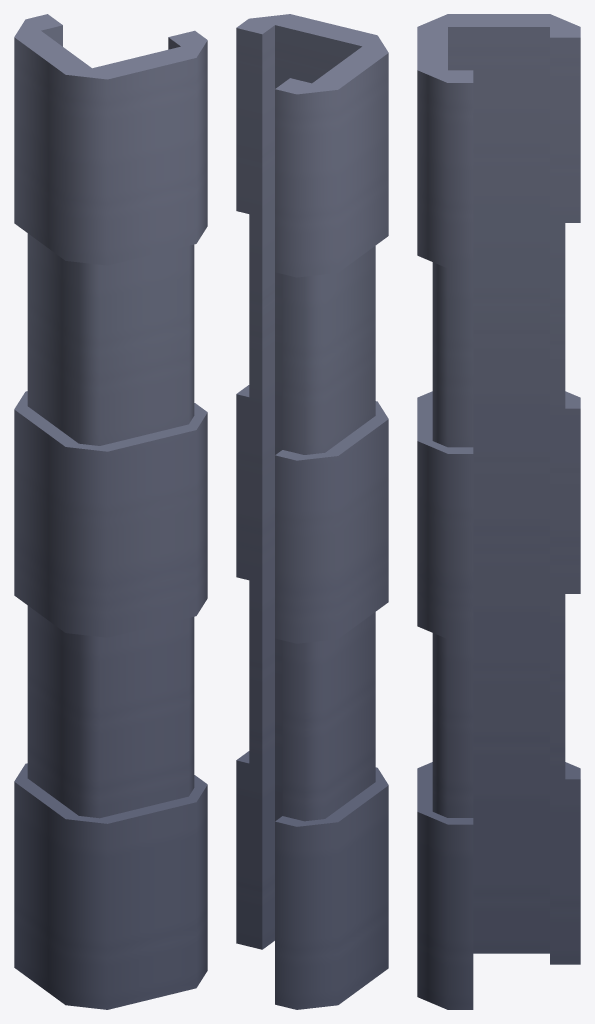
File: wall-corner-detail.fbx
3 renders of one model, left to right at view 1: azimuth 30°, elevation 25°; view 2: azimuth 150°, elevation 25°; view 3: azimuth 270°, elevation 25°, orthographic.
Parts seen in each view (by area): view 1: wall-corner-detail; view 2: wall-corner-detail; view 3: wall-corner-detail.
Part boxes in pixels (<box>): wall-corner-detail: <box>14,14,207,1009</box>; wall-corner-detail: <box>236,14,388,1009</box>; wall-corner-detail: <box>417,14,580,1009</box>.
Bounding box in the file's own units: 16 × 100 × 16.
Materials: 1 (1 with a texture image).
